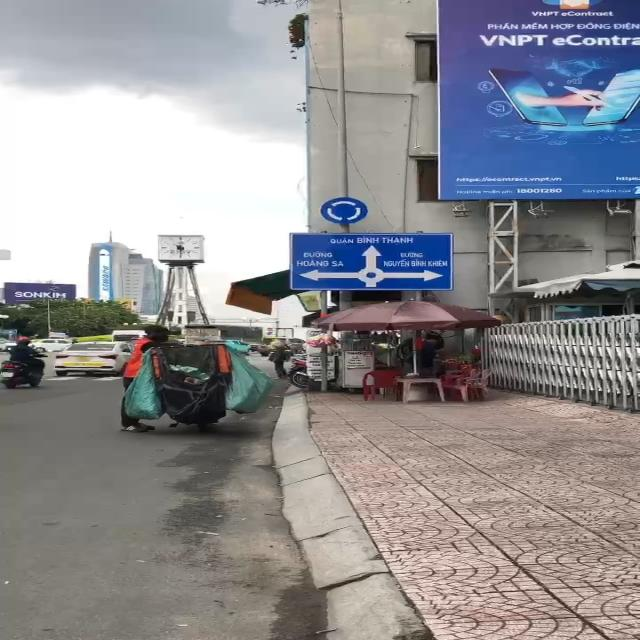Bien bao noi giao nhau chay theo vong xuyen: (318, 195, 372, 225)
